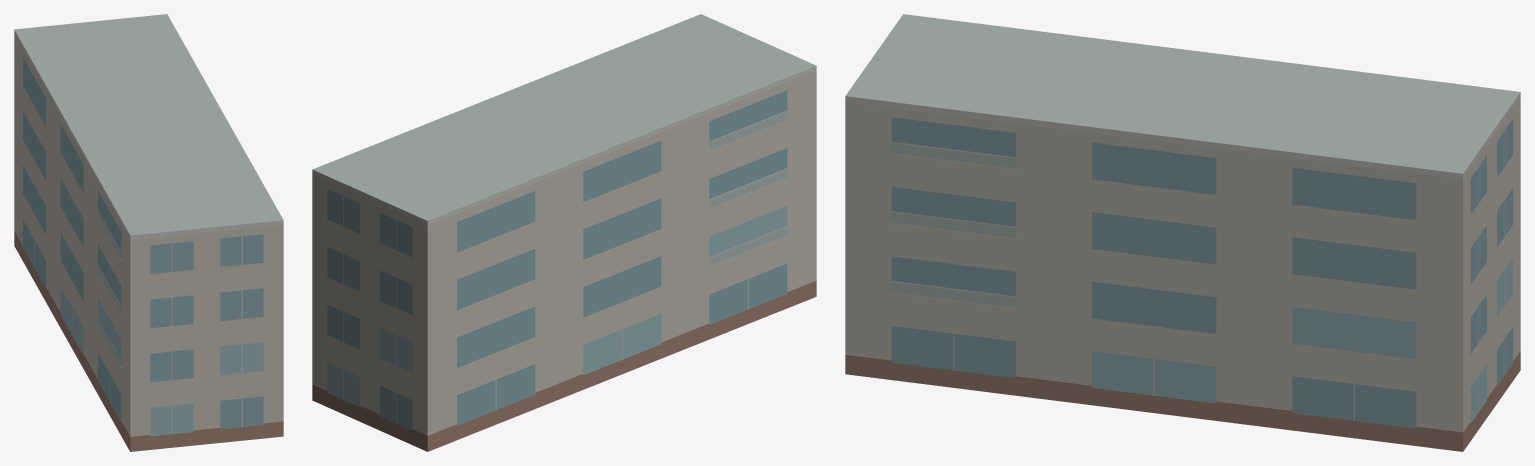
Rendered from residential-468269c1-a96c-42c4-9f85-70ced97dc96f.glb.
3 views of the same model, side by side, from view 1: azimuth 30°, elevation 25°; view 2: azimuth 150°, elevation 25°; view 3: azimuth 270°, elevation 25° (orthographic). The views are drawn at different scales.
Visible parts, largest first — view 1: residential-468269c1-a96c-42c4-9f85-70ced97dc96f.tmp; view 2: residential-468269c1-a96c-42c4-9f85-70ced97dc96f.tmp; view 3: residential-468269c1-a96c-42c4-9f85-70ced97dc96f.tmp.
Part boxes in pixels (bbox=[...]): residential-468269c1-a96c-42c4-9f85-70ced97dc96f.tmp: bbox=[14, 14, 283, 451]; residential-468269c1-a96c-42c4-9f85-70ced97dc96f.tmp: bbox=[312, 14, 816, 451]; residential-468269c1-a96c-42c4-9f85-70ced97dc96f.tmp: bbox=[845, 14, 1520, 451].
Bounding box in the file's own units: 15.04 × 12.2 × 26.86.
